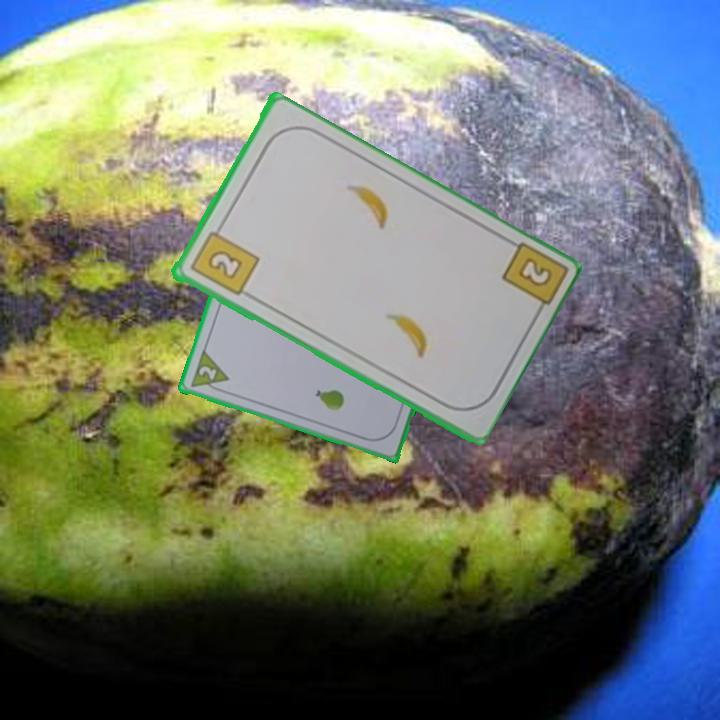2b: (186, 220, 261, 299), (497, 238, 567, 320)
2p: (186, 348, 232, 396)
